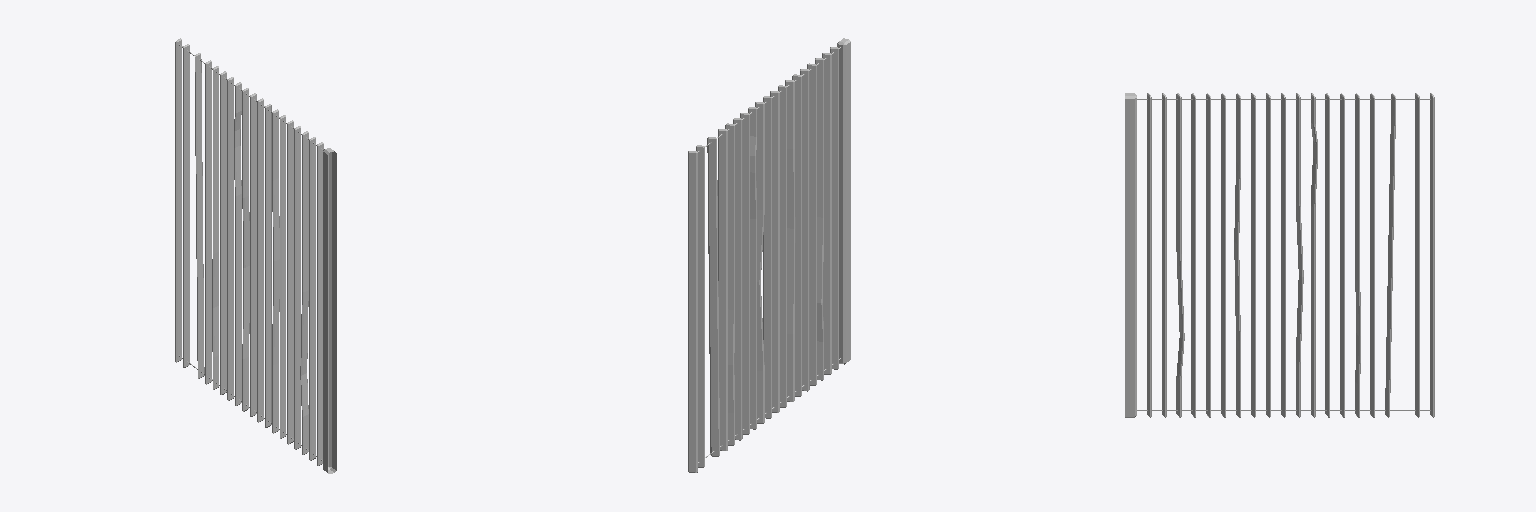
Rendered from am_blinda.obj.
3 renders of one model, left to right at view 1: azimuth 30°, elevation 25°; view 2: azimuth 150°, elevation 25°; view 3: azimuth 270°, elevation 25°, orthographic.
Visible parts, largest first — view 1: am_blinda; view 2: am_blinda; view 3: am_blinda.
Boxes of the visible parts, x1,y1,x2,y2 form: am_blinda: [175, 38, 336, 473]; am_blinda: [688, 38, 850, 472]; am_blinda: [1125, 93, 1434, 417].
Bounding box in the file's own units: 3.15 × 88 × 76.69.